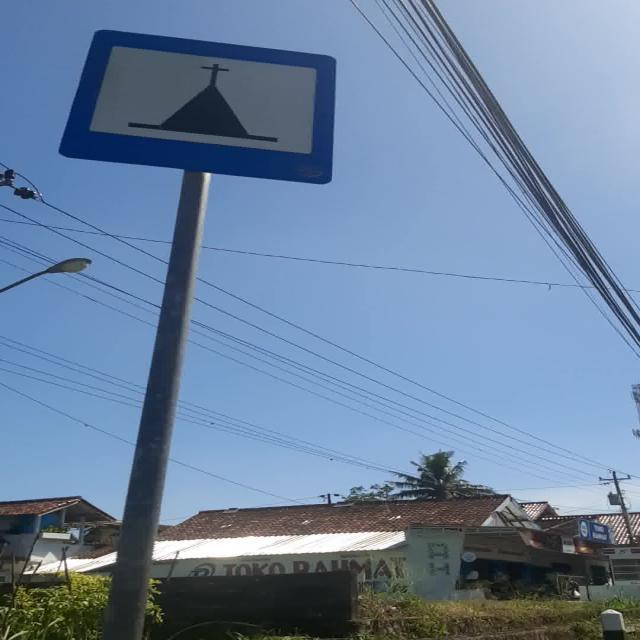Gereja: (57, 28, 338, 185)
